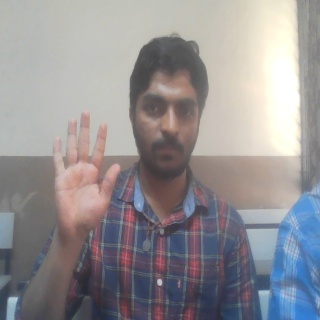Face: (126, 31, 210, 184)
Hello: (50, 108, 122, 243)
